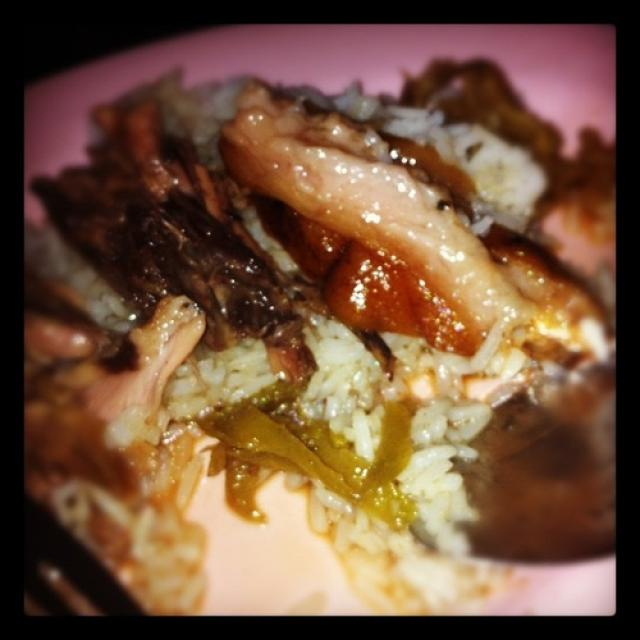猪肉菜式: (36, 47, 613, 608)
